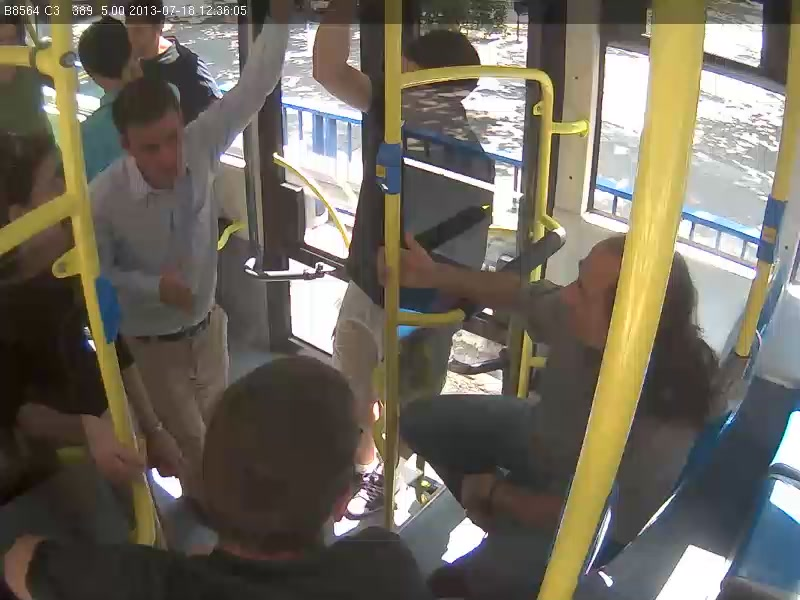Head: (201, 344, 361, 549), (107, 72, 198, 201), (5, 120, 88, 255), (556, 234, 631, 364), (402, 30, 479, 116), (71, 17, 132, 92), (121, 0, 168, 53)
